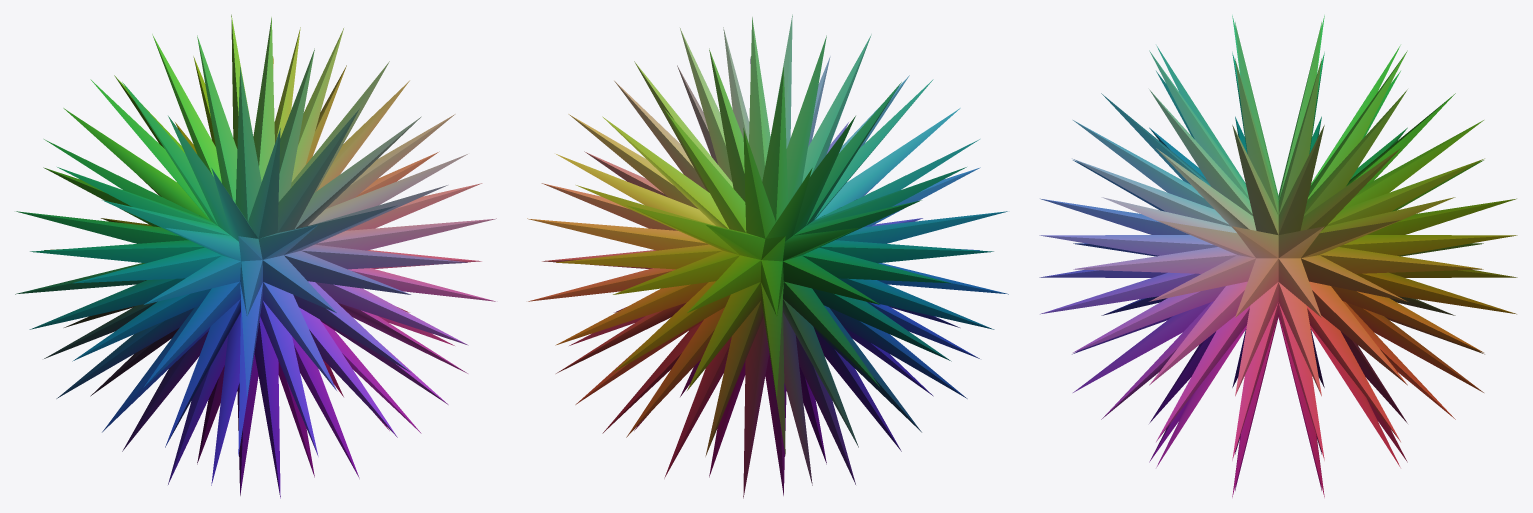
The model's file is zeometry-stars-spikes-spiky-ball_v4.fbx.
3 renders of one model, left to right at view 1: azimuth 30°, elevation 25°; view 2: azimuth 150°, elevation 25°; view 3: azimuth 270°, elevation 25°, orthographic.
Parts seen in each view (by area): view 1: Spiky Ball_v4; view 2: Spiky Ball_v4; view 3: Spiky Ball_v4.
Boxes of the visible parts, <box> form: Spiky Ball_v4: <box>15,14,496,498</box>; Spiky Ball_v4: <box>527,14,1008,498</box>; Spiky Ball_v4: <box>1039,15,1517,497</box>.
Bounding box in the file's own units: 0.5 × 0.5 × 0.5.
